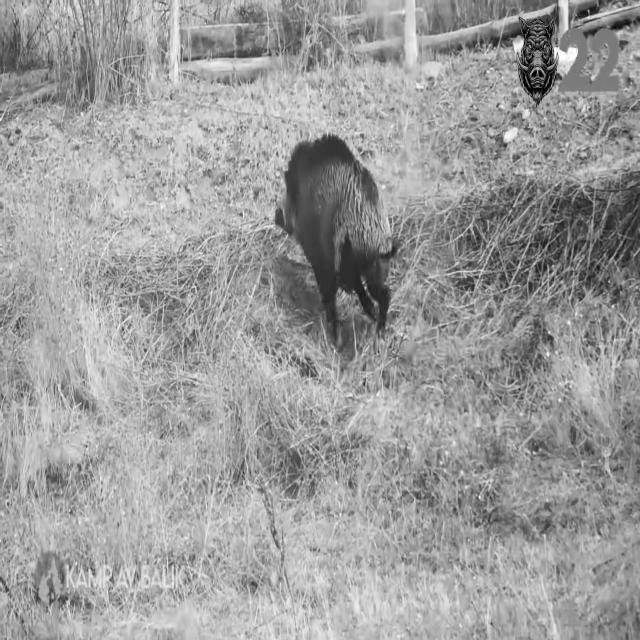boar: (274, 135, 395, 344)
